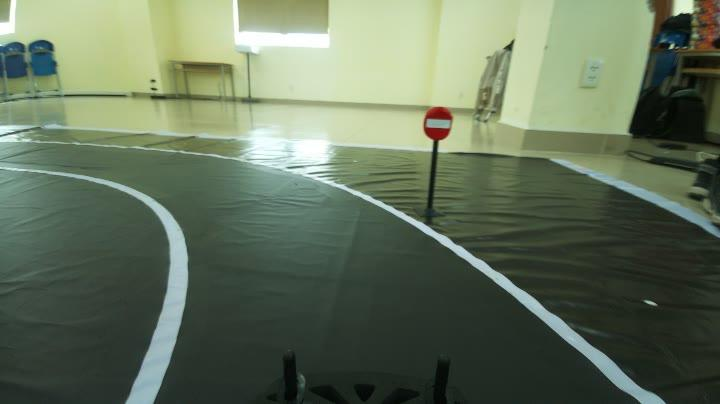no_entry: (423, 104, 459, 141)
